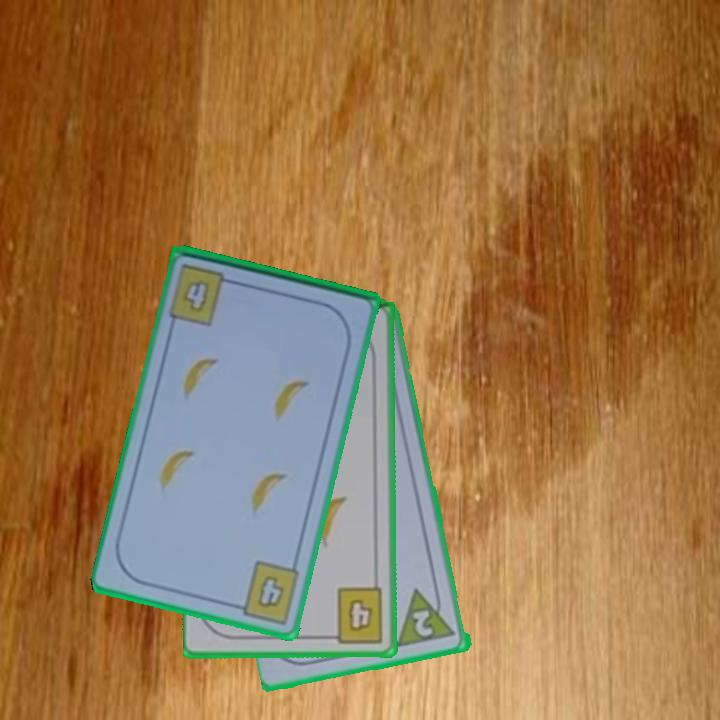2p: (395, 582, 459, 650)
4b: (229, 557, 303, 628), (324, 584, 386, 645), (180, 277, 214, 316)
